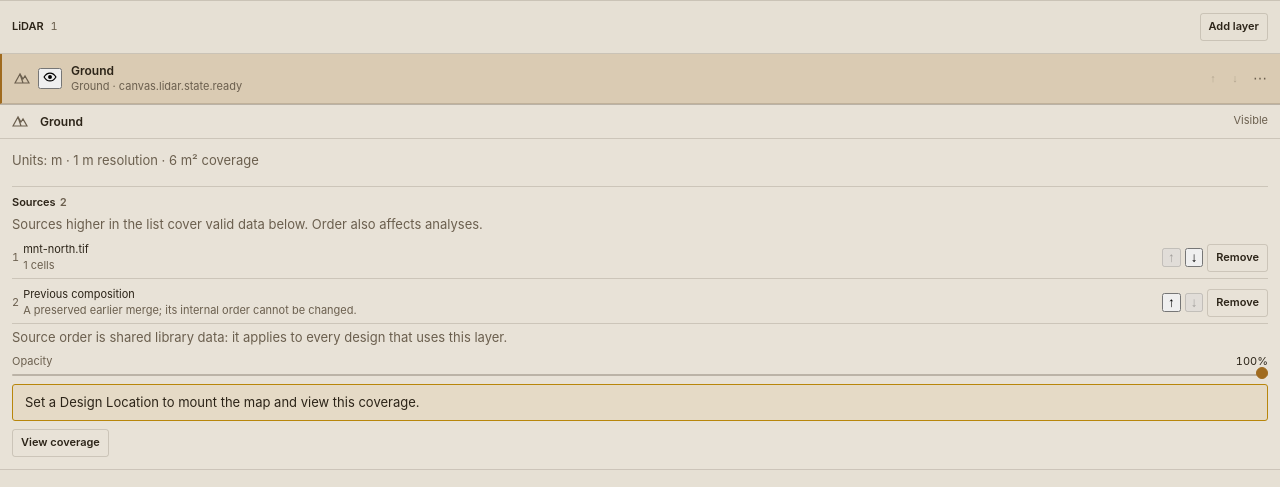
Test: ordered layer priority panel › settles a pending edit after the view moves on
The image size is (1280, 487).
Step 1. Click the button named "Move up" → {"x": 1171, "y": 303}, box [1162, 293, 1181, 312]
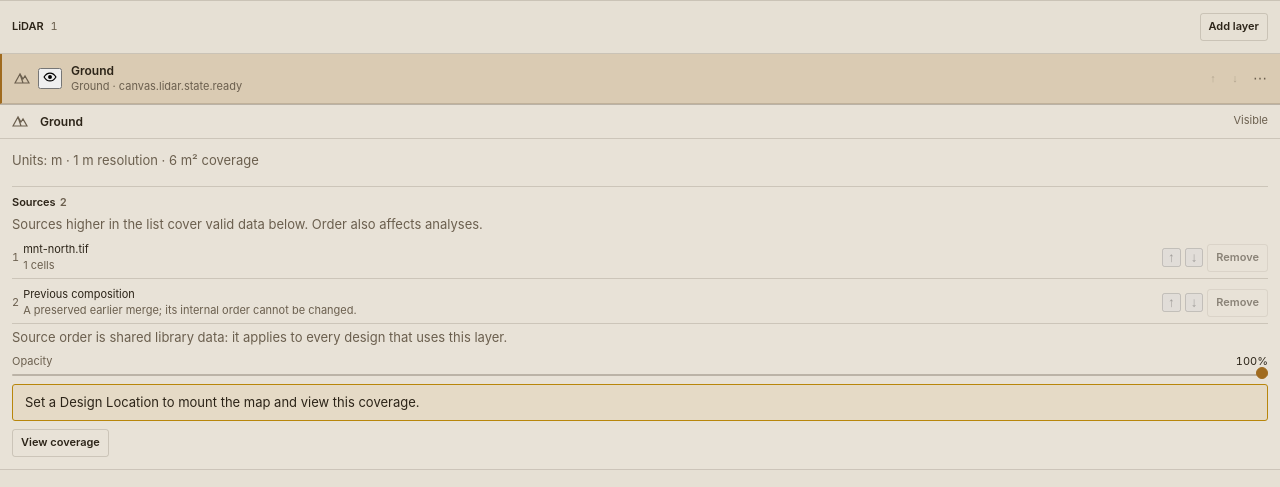
Expected: the button named "Move up" is disabled, [1162, 293, 1181, 312]
Step 2. Click the button named "Layer actions" → {"x": 1260, "y": 78}, box [1248, 66, 1272, 90]
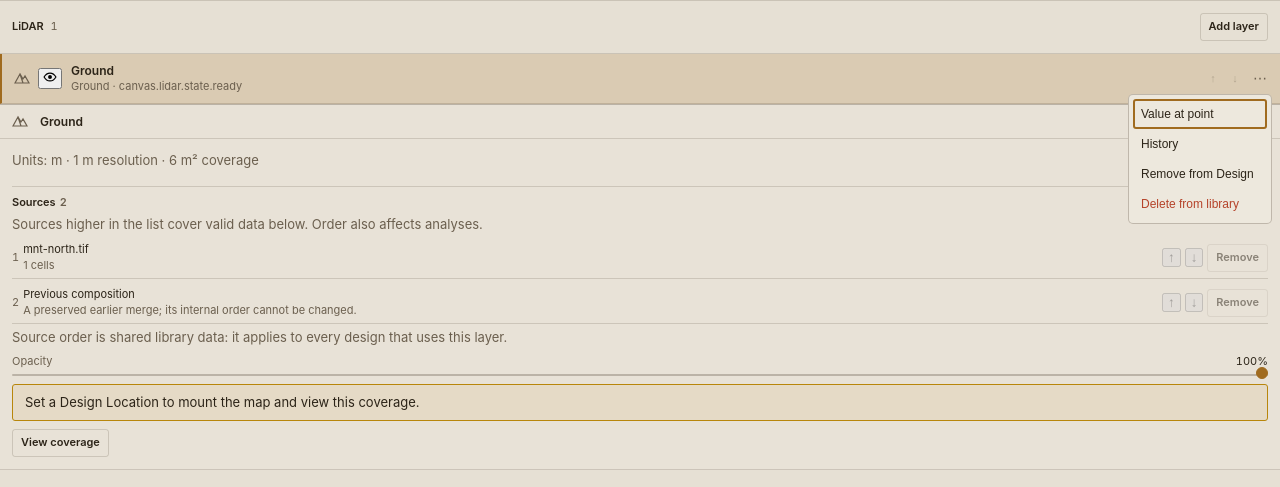
Expected: the menu item "History" is shown
Step 3. Click the menu item "History" → {"x": 1200, "y": 144}, box [1133, 129, 1267, 159]
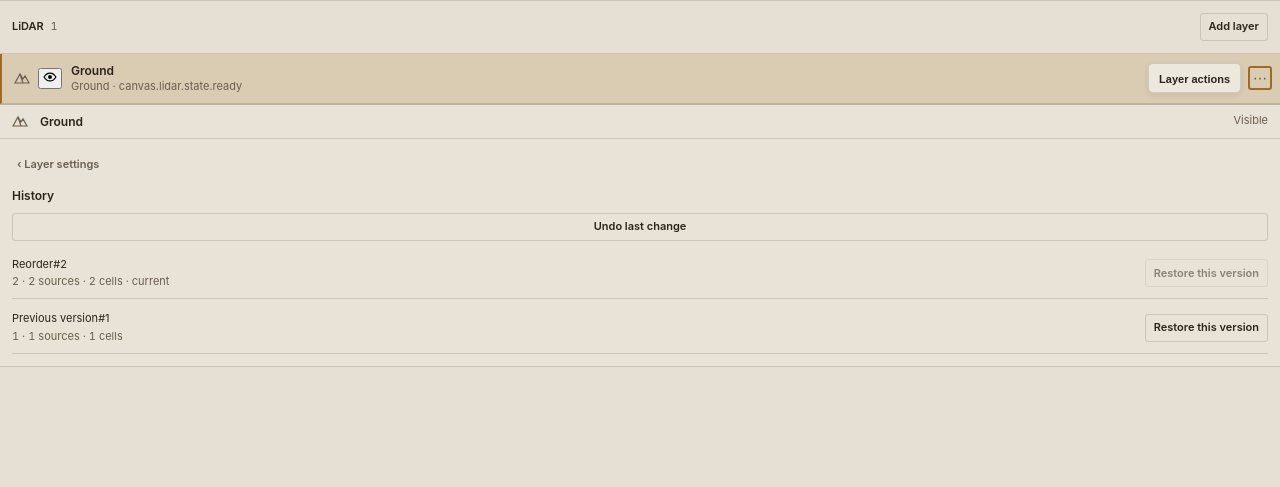
Expected: the button "Undo last change" is enabled, [12, 212, 1268, 240]
